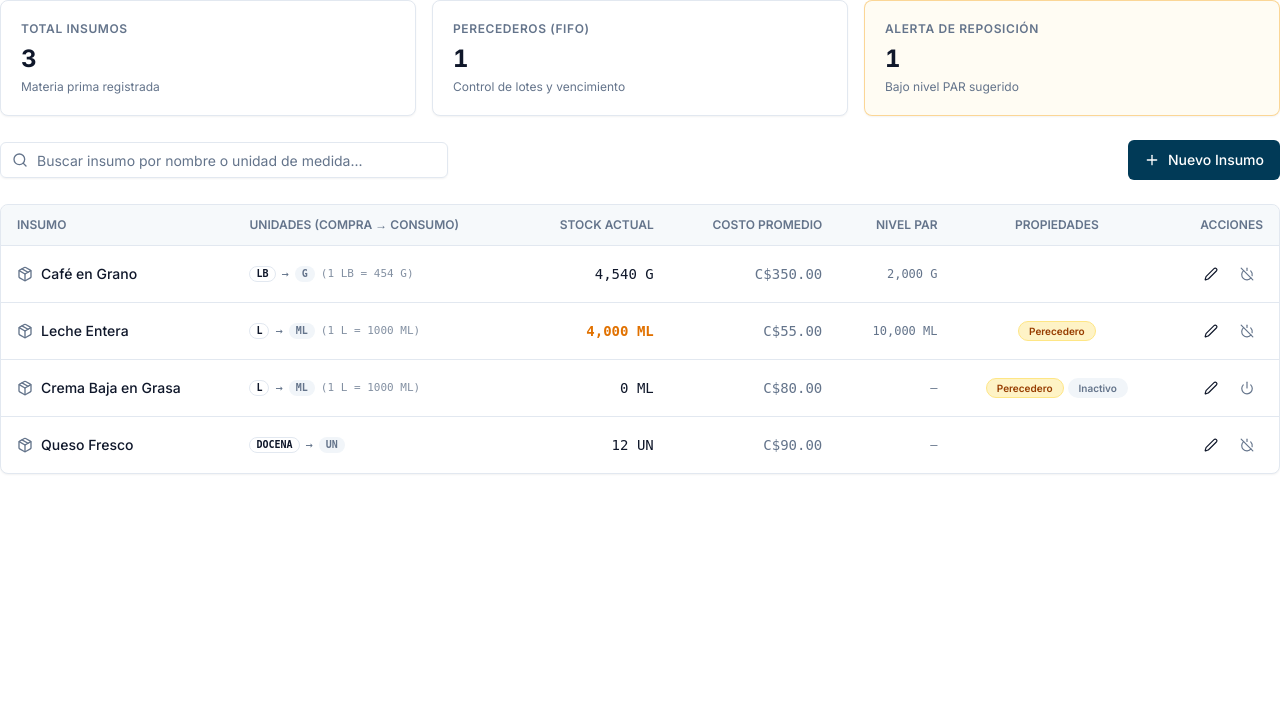
Test: InsumosTab › blocks submission when the name is blank
Expected: the text "Café en Grano" is shown, [41,264,137,284]
What coordinates should you click on to do the following:
click the button with test id "add-insumo-btn"
I would click on:
 (1204, 160)
Its box is [1128,140,1279,180].
(page scrolled)
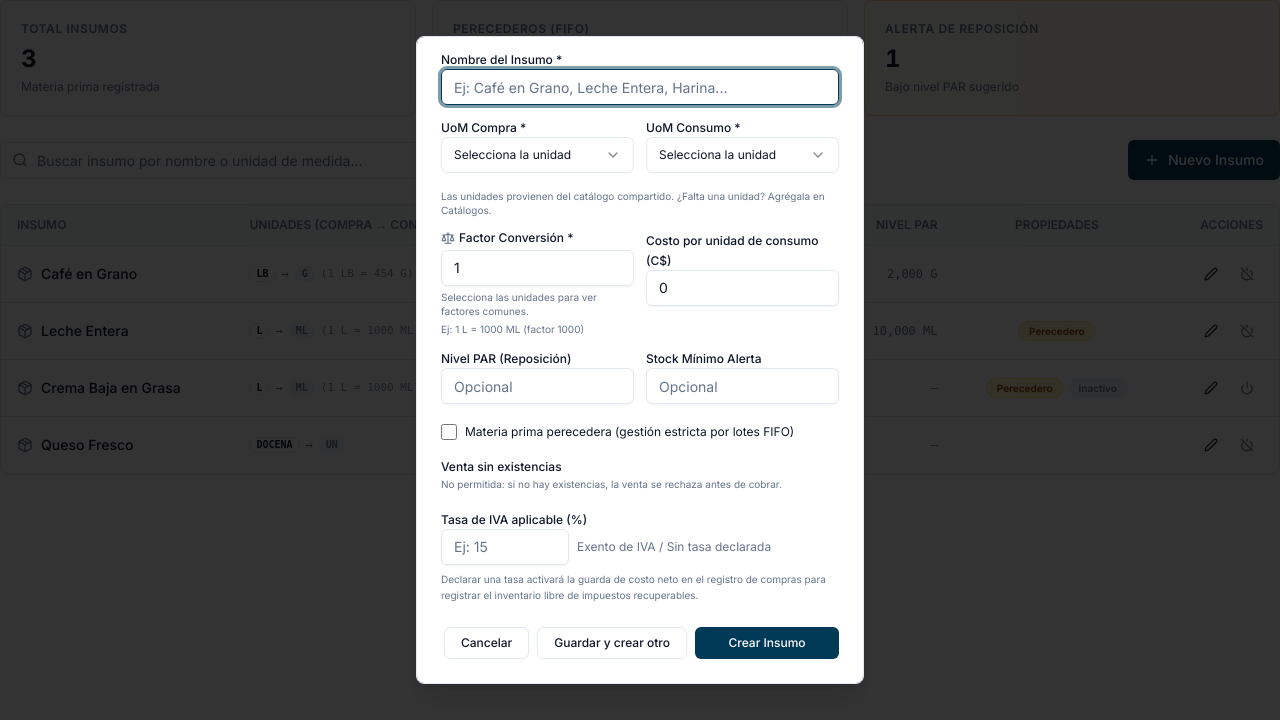
What coordinates should you click on to do the following:
click the button with test id "insumo-form-submit"
I would click on:
 (767, 643)
Its box is [695,627,839,659].
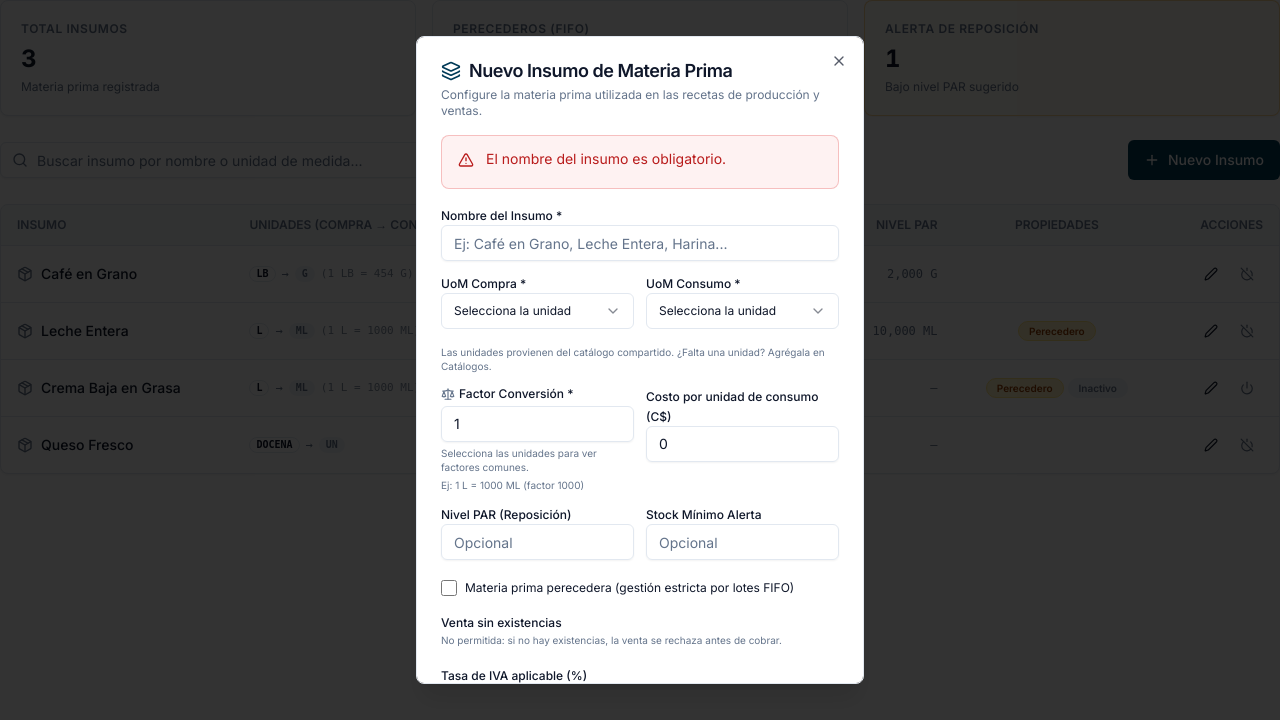
Result: the text "El nombre del insumo es obligatorio." is shown at [486,150,726,167]
